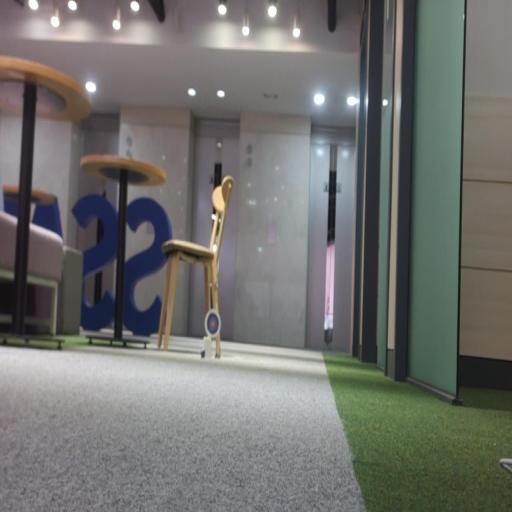target: (205, 309, 221, 339)
